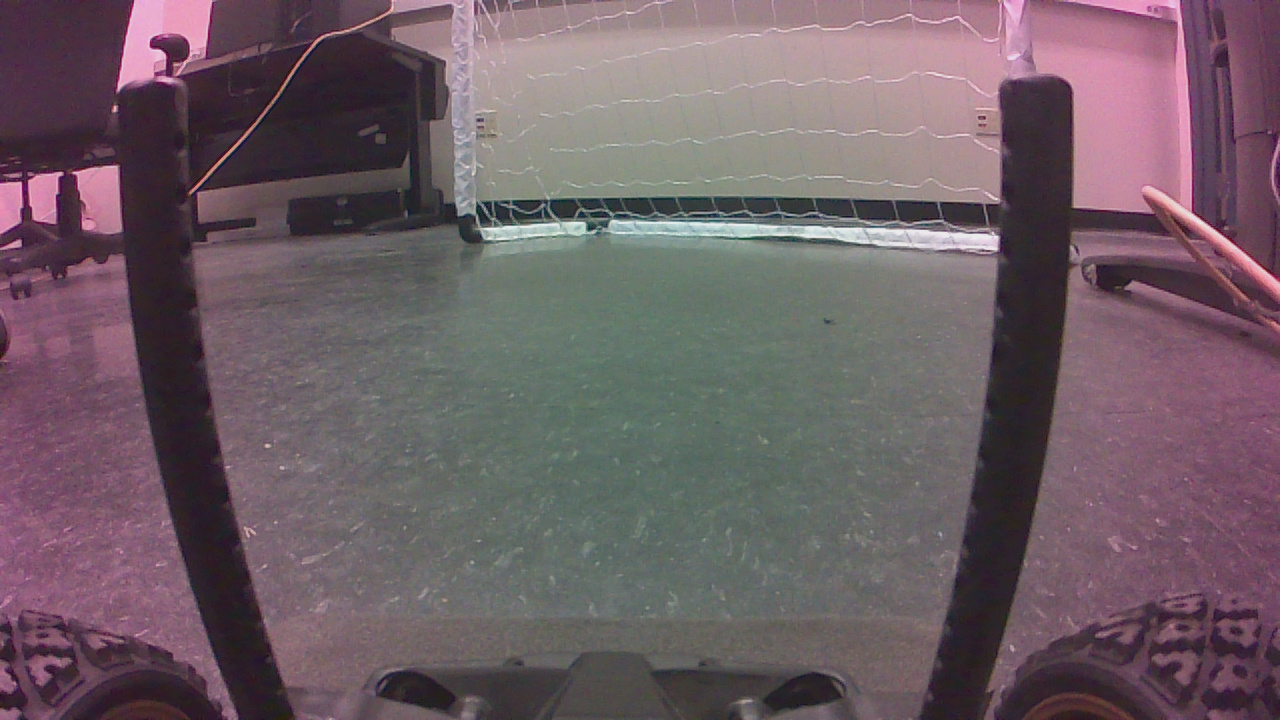goal: (459, 3, 1043, 253)
